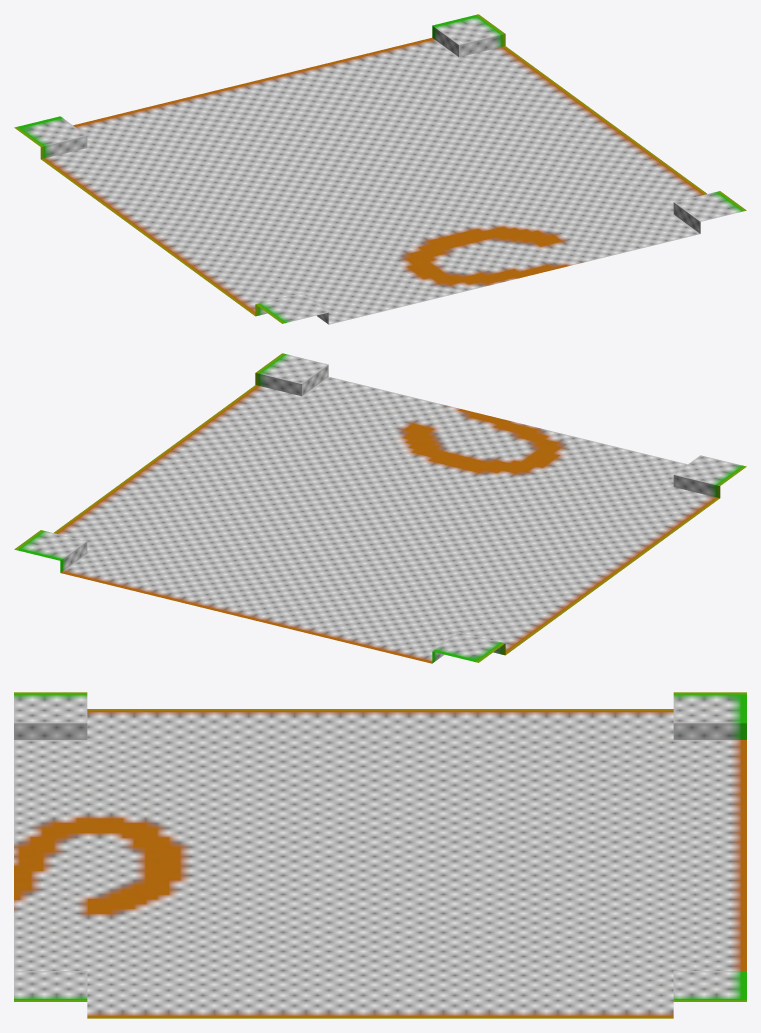
Rendered from Street_4.fbx.
3 views of the same model, one above another, from view 1: azimuth 30°, elevation 25°; view 2: azimuth 150°, elevation 25°; view 3: azimuth 270°, elevation 25° (orthographic). The views are drawn at different scales.
Parts seen in each view (by area): view 1: Street_4; view 2: Street_4; view 3: Street_4.
Boxes of the visible parts, x1,y1,x2,y2 form: Street_4: (14,14,746,324); Street_4: (14,353,746,663); Street_4: (14,692,746,1018).
Bounding box in the file's own units: 1000 × 25 × 1000.
